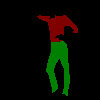jeans: (46, 40, 70, 96)
t-shirt: (37, 14, 78, 42)
